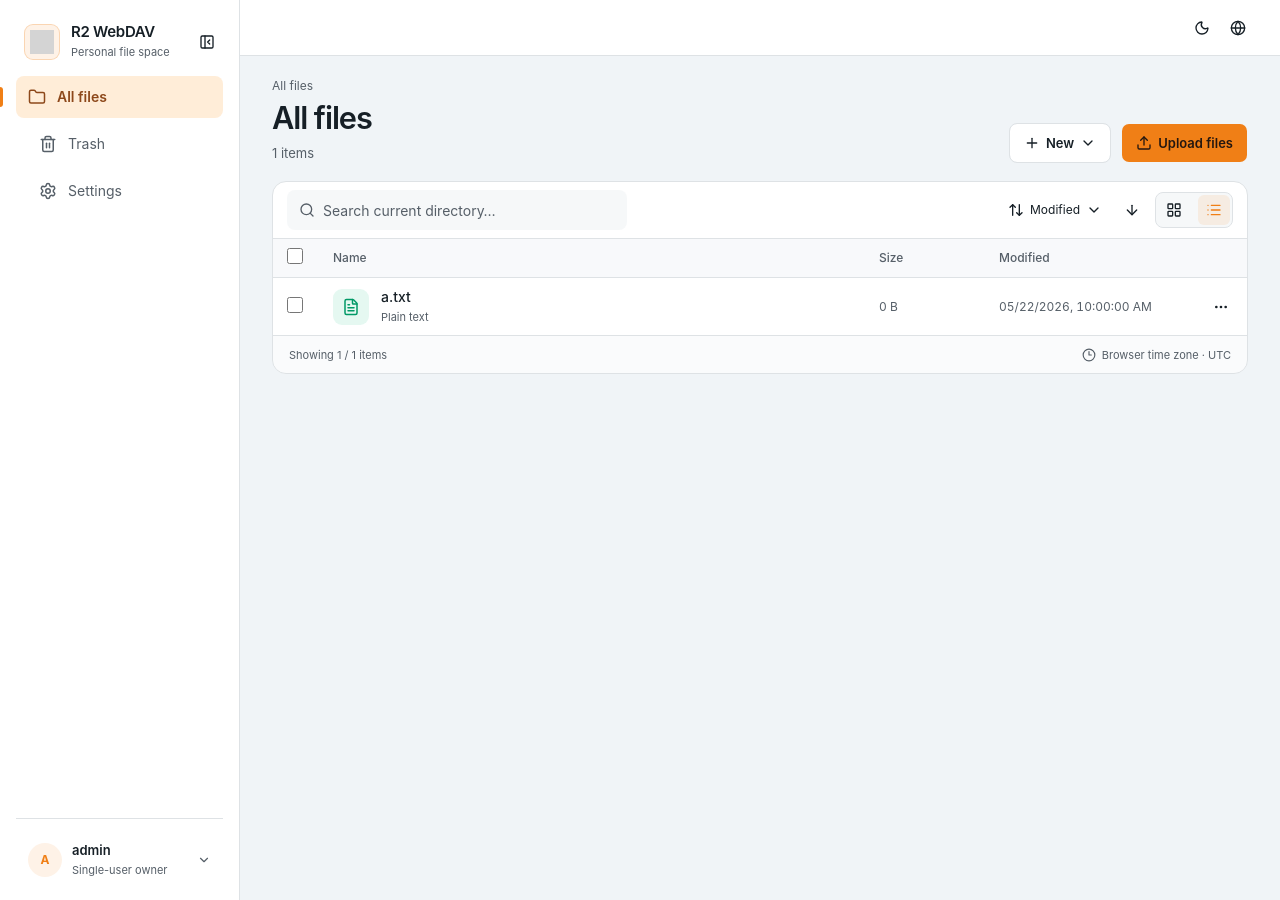
FilesPage › clears the search from the empty results state
Expected: the button with aria-label "open a.txt" is shown, [333,287,851,326]
Type "missing" into the search field at (469, 210), box [323,200,615,221]
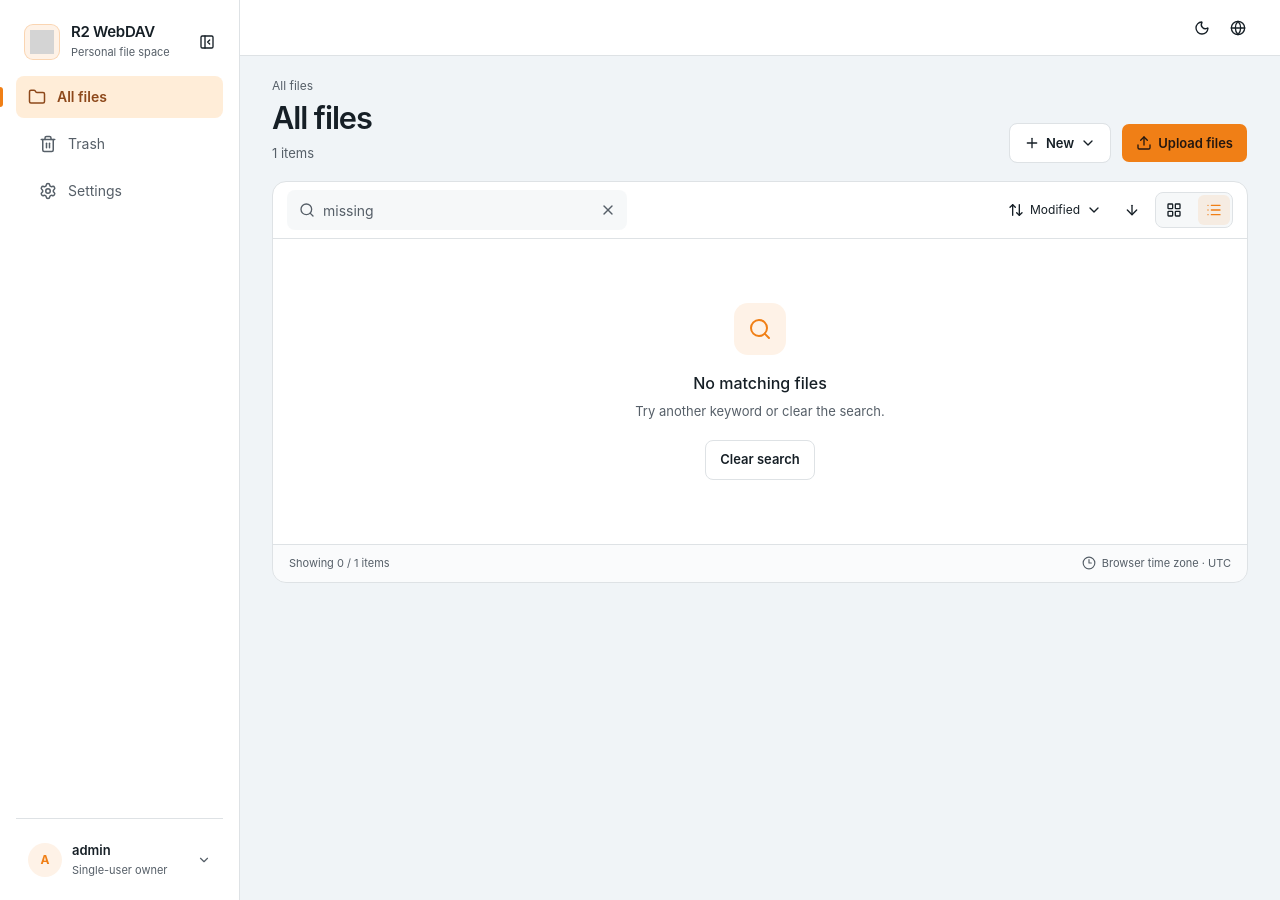
Result: the number of buttons named "Clear search" is 2
Click the button "Clear search" at (760, 460), box [705,440,815,480]
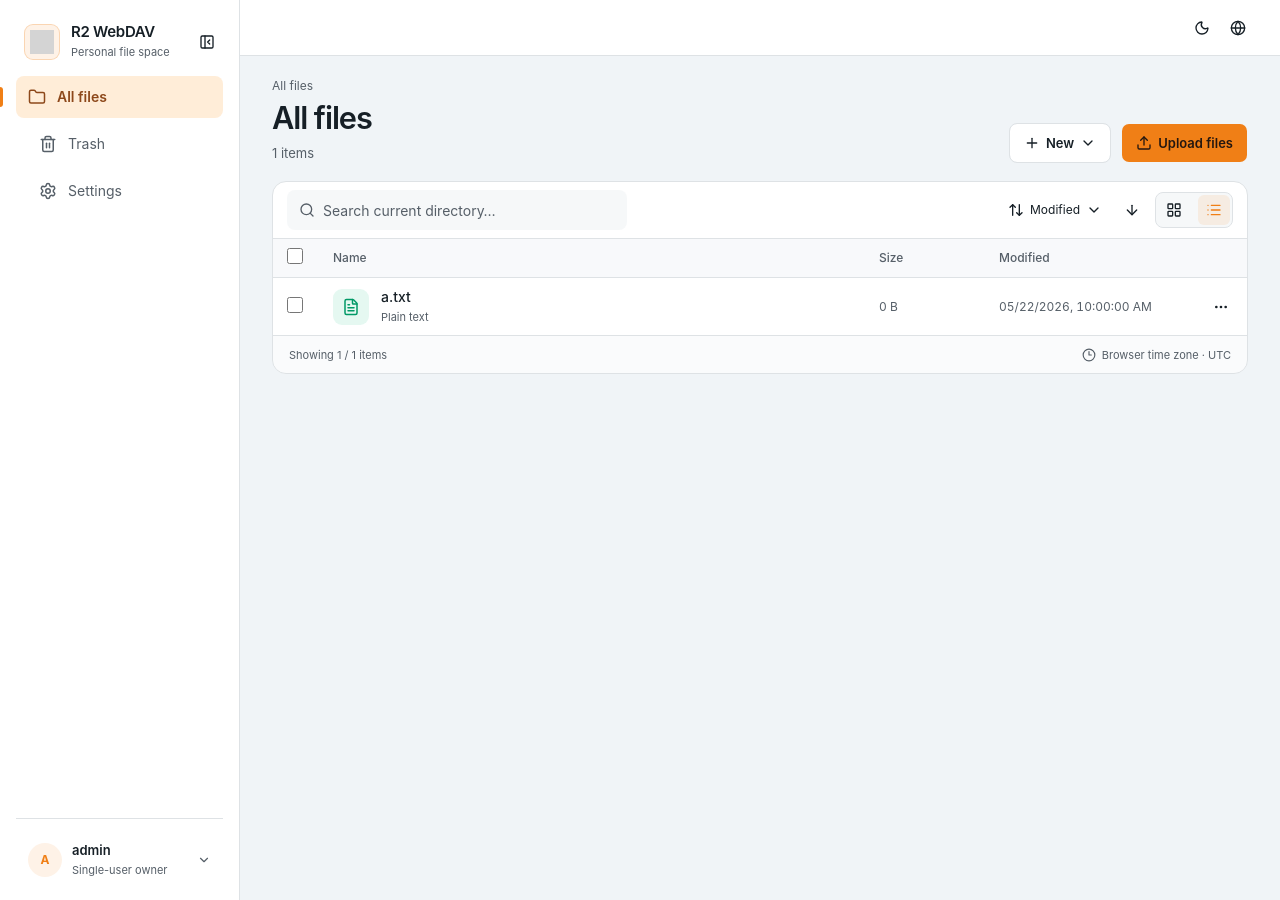
Result: the search field is empty at [323,200,615,221]
Result: the button with aria-label "open a.txt" is shown at [333,287,851,326]
